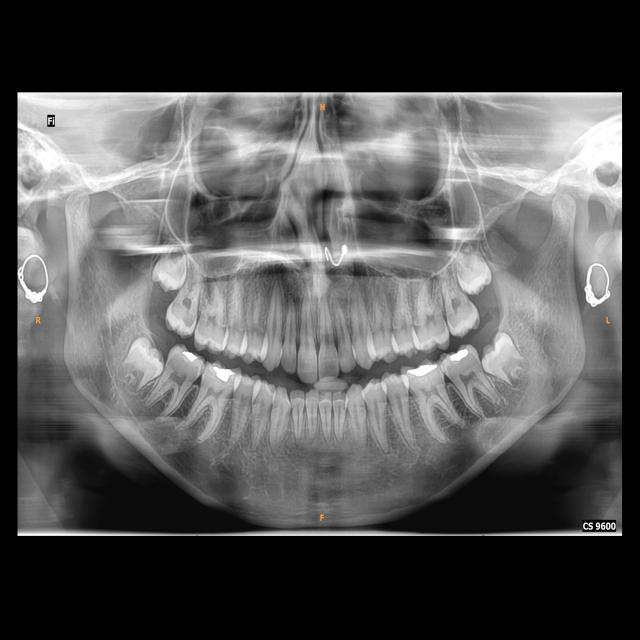dolgu: (172, 346, 205, 366), (207, 362, 235, 384), (444, 348, 473, 366), (409, 361, 438, 376)
